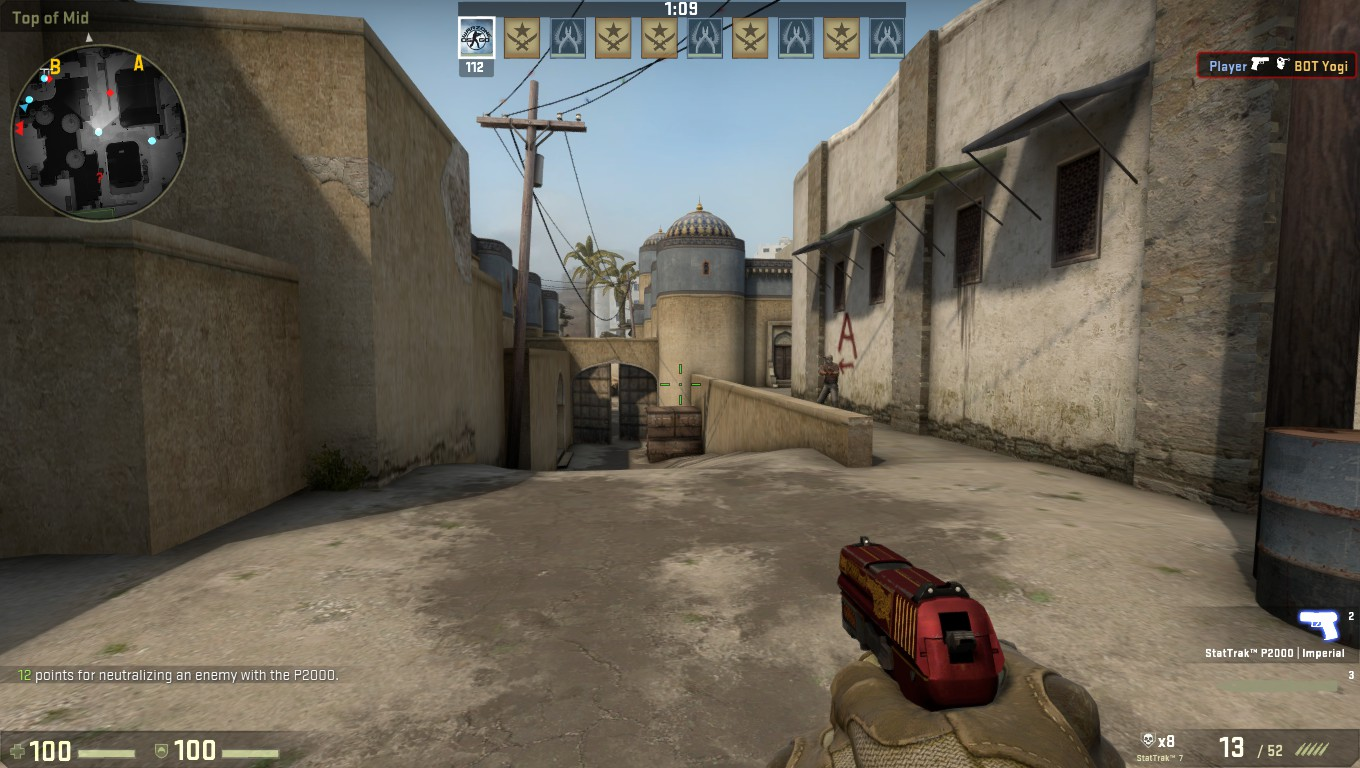t: (816, 354, 840, 407)
th: (822, 353, 835, 365)
